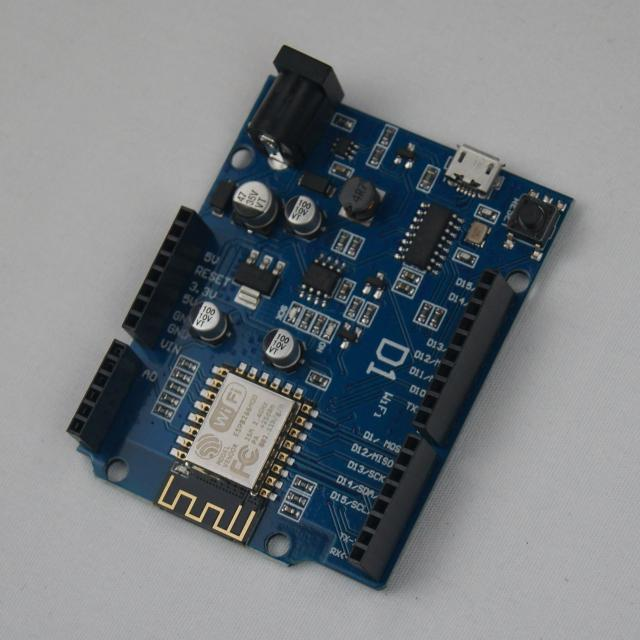Arduino Uno WiFi Shield: (69, 46, 571, 588)
